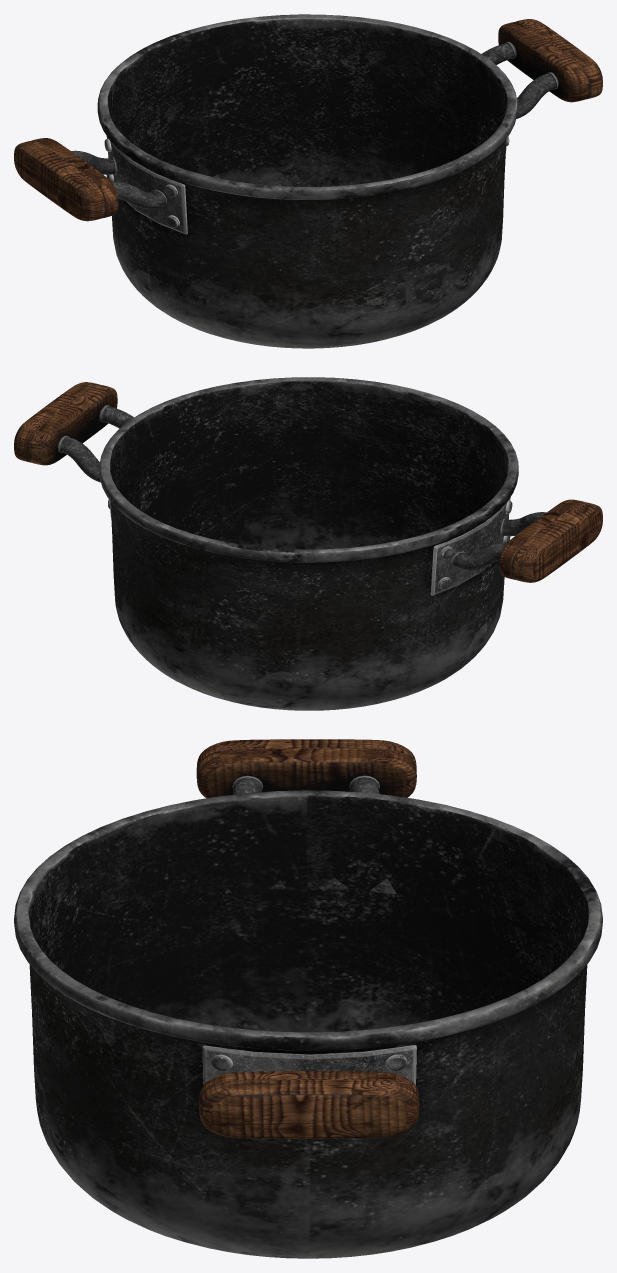
File: pan_3.glb
The picture shows the model from 3 angles, top to bottom: view 1: azimuth 30°, elevation 25°; view 2: azimuth 150°, elevation 25°; view 3: azimuth 270°, elevation 25°; orthographic projection. The views are drawn at different scales.
Visible parts, largest first — view 1: cable.001; view 2: cable.001; view 3: cable.001.
Boxes of the visible parts, x1,y1,x2,y2 form: cable.001: (14, 14, 602, 348); cable.001: (14, 377, 602, 710); cable.001: (14, 739, 602, 1258).
Size of the model in its own units: 0.267 by 0.0944 by 0.186.
5 materials, 5 textured.
